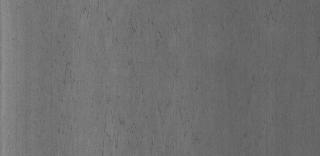silk spot: (70, 0, 182, 144)
